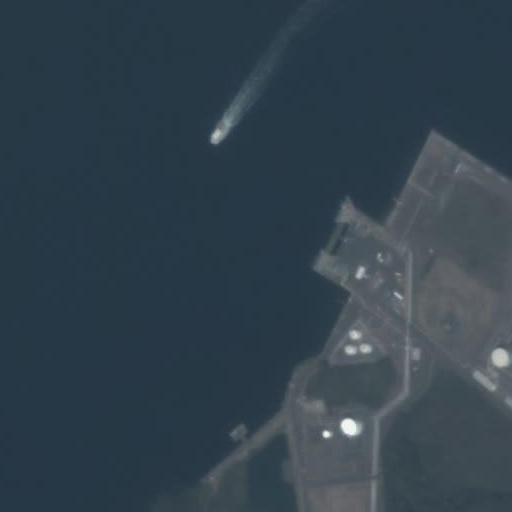person: (208, 128, 223, 145)
